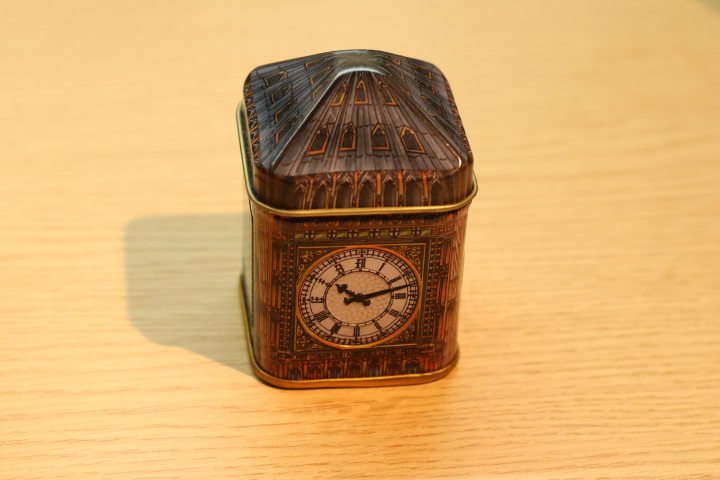Big Ben: (222, 39, 493, 398)
